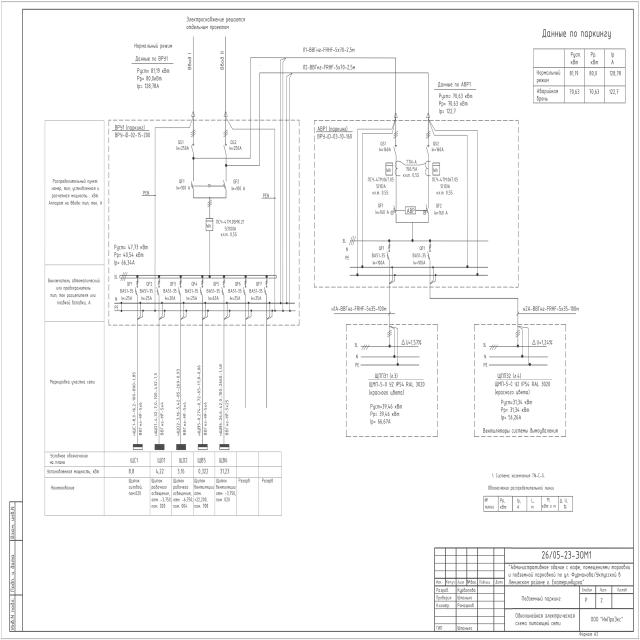-: (366, 176, 394, 196), (432, 176, 459, 196), (316, 132, 352, 140), (401, 166, 420, 178), (370, 252, 386, 266), (412, 252, 427, 266), (378, 146, 392, 154), (432, 210, 448, 216), (374, 210, 388, 216), (432, 146, 444, 153)
AVR: (404, 206, 416, 214)
M: (422, 210, 427, 215), (390, 210, 394, 215)
QF: (386, 243, 392, 261), (427, 244, 432, 262), (393, 203, 397, 216), (426, 203, 430, 214)
QS: (393, 130, 399, 158), (425, 130, 431, 158)
TT: (394, 160, 402, 178), (424, 160, 432, 178)
WH: (432, 162, 440, 176), (385, 162, 393, 176)
